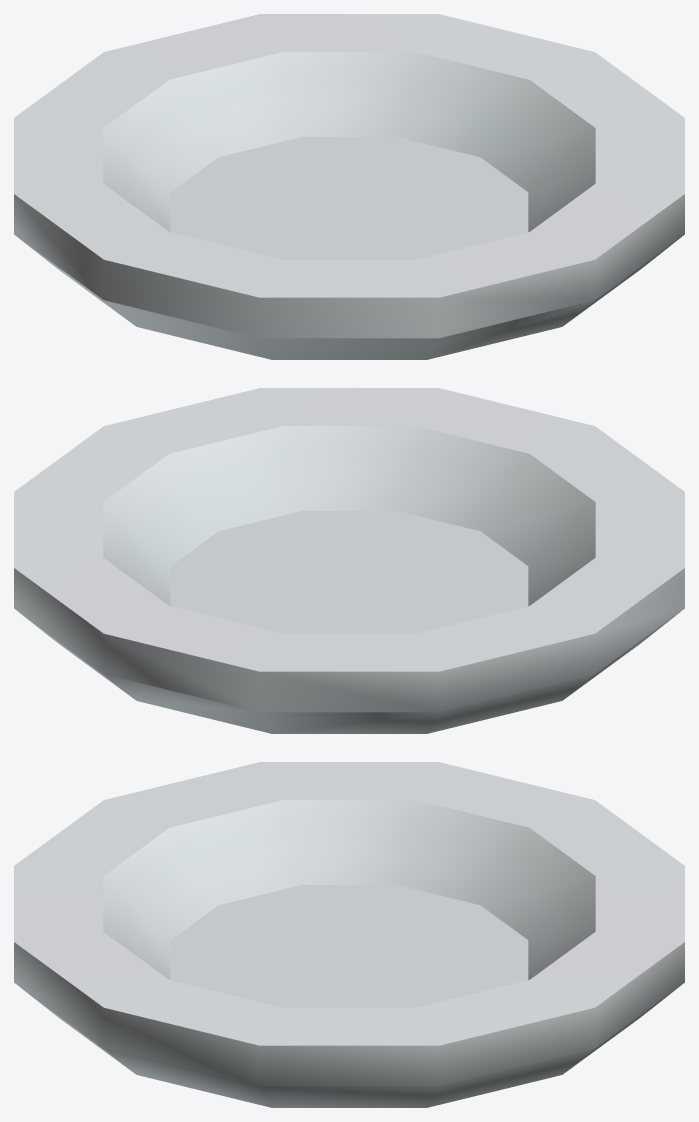
The model's file is kkr.plate_small.glb.
3 renders of one model, top to bottom at view 1: azimuth 30°, elevation 25°; view 2: azimuth 150°, elevation 25°; view 3: azimuth 270°, elevation 25°, orthographic.
Parts seen in each view (by area): view 1: plate_small; view 2: plate_small; view 3: plate_small.
Boxes of the visible parts, x1,y1,x2,y2 form: plate_small: [14, 14, 684, 359]; plate_small: [14, 388, 684, 733]; plate_small: [14, 762, 684, 1107].
Bounding box in the file's own units: 0.2067 × 0.0276 × 0.2067.
Materials: 1 (1 with a texture image).
